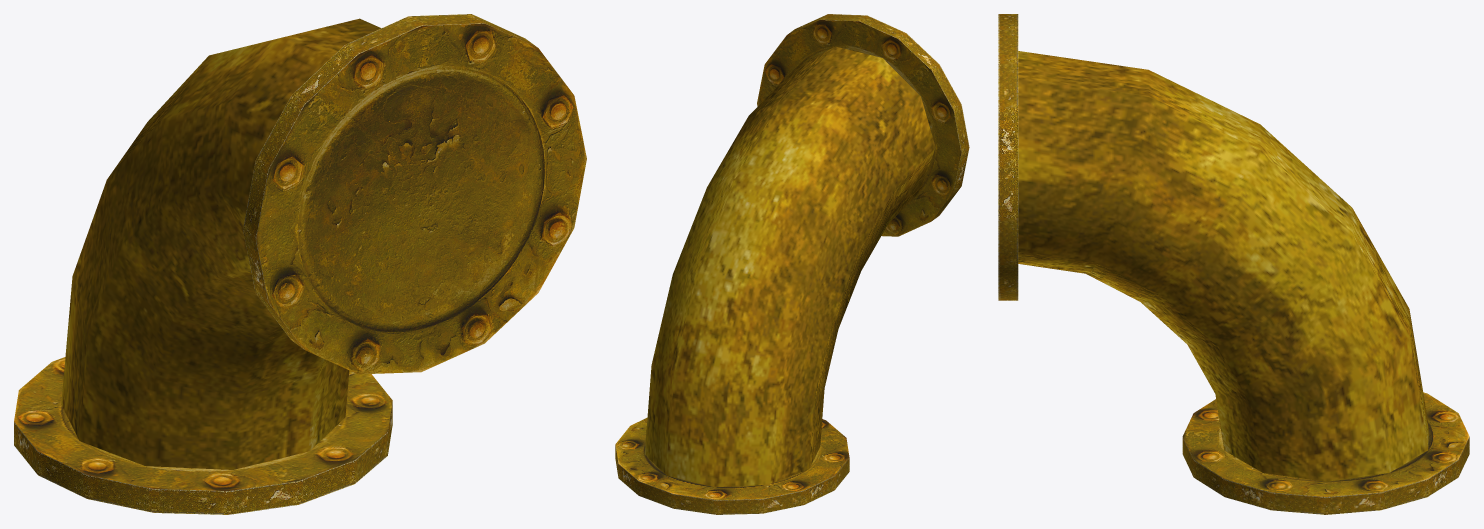
Rendered from elbow_yellow.DAE.
3 renders of one model, left to right at view 1: azimuth 30°, elevation 25°; view 2: azimuth 150°, elevation 25°; view 3: azimuth 270°, elevation 25°, orthographic. The views are drawn at different scales.
Visible parts, largest first — view 1: Object382, Torus035; view 2: Torus035, Object382; view 3: Torus035, Object382.
Boxes of the visible parts, x1,y1,x2,y2 form: Object382: (14,14,586,514); Torus035: (61,18,381,469); Torus035: (644,46,935,487); Object382: (615,14,969,514); Torus035: (1018,51,1428,481); Object382: (998,14,1469,514).
Bounding box in the file's own units: 0.6566 × 1.08 × 1.08.
